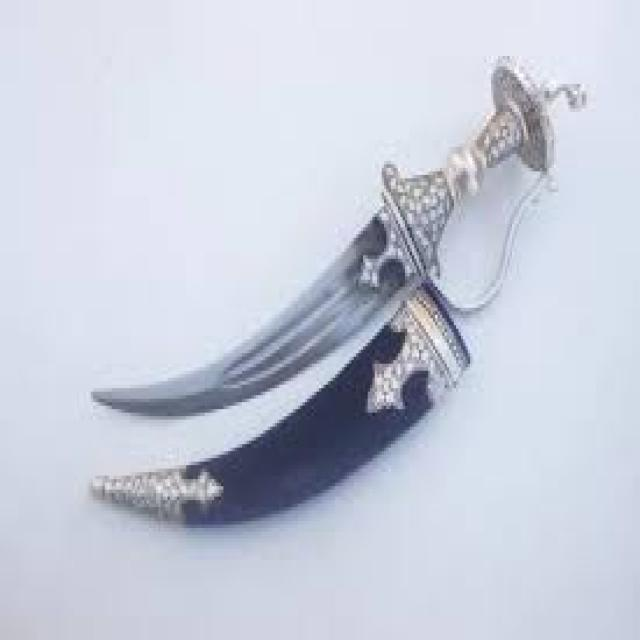Gun: (45, 58, 625, 528)
